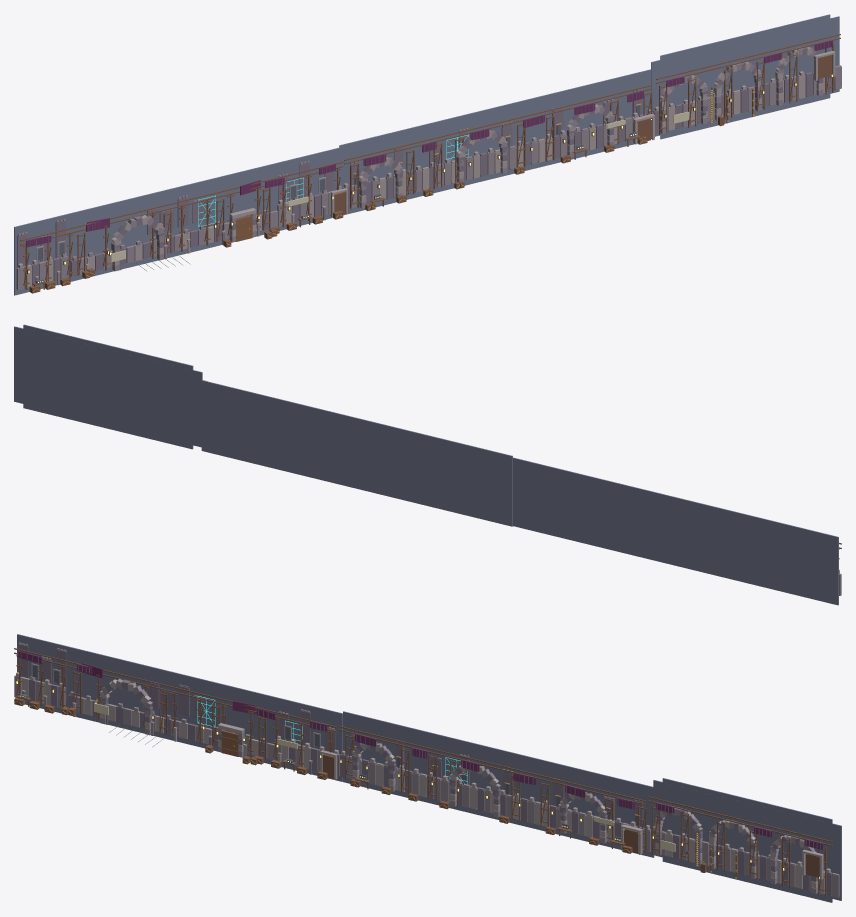
Rendered from Stage1_Backdrop.fbx.
The picture shows the model from 3 angles, top to bottom: view 1: azimuth 30°, elevation 25°; view 2: azimuth 150°, elevation 25°; view 3: azimuth 330°, elevation 25°; orthographic projection.
Parts seen in each view (by area): view 1: BG_GearRoomBackdrop, BG_StageBacking, BG_ExtraFlat_01, BG_ExtraFlat_02, BG_ExtraFlat_00, BG_StorageBackdrop, BG_EntryBackdrop, PROP_UpperStageBeam.001, PROP_OverheadBeam.001, PROP_UpperStageBeam; view 2: BG_GearRoomBackdrop, BG_StageBacking, BG_ExtraFlat_02, BG_ExtraFlat_01, BG_ExtraFlat_00, BG_StorageBackdrop, BG_EntryBackdrop; view 3: BG_GearRoomBackdrop, BG_StageBacking, BG_ExtraFlat_01, BG_ExtraFlat_02, BG_ExtraFlat_00, BG_StorageBackdrop, BG_EntryBackdrop, PROP_UpperStageBeam.001, PROP_OverheadBeam.001, PROP_UpperStageBeam.
Part boxes in pixels (x1,y1,x2,y2): BG_GearRoomBackdrop: (651, 14, 839, 139); BG_StageBacking: (61, 163, 277, 281); BG_ExtraFlat_01: (441, 96, 542, 191); BG_ExtraFlat_02: (542, 69, 650, 166); BG_ExtraFlat_00: (339, 120, 441, 215); BG_StorageBackdrop: (275, 147, 340, 230); BG_EntryBackdrop: (14, 214, 64, 295); PROP_UpperStageBeam.001: (344, 85, 652, 160); PROP_OverheadBeam.001: (20, 161, 343, 241); PROP_UpperStageBeam: (344, 88, 651, 164); BG_GearRoomBackdrop: (14, 324, 202, 449); BG_StageBacking: (574, 472, 790, 593); BG_ExtraFlat_02: (201, 380, 310, 477); BG_ExtraFlat_01: (310, 406, 411, 501); BG_ExtraFlat_00: (411, 431, 512, 526); BG_StorageBackdrop: (513, 457, 578, 540); BG_EntryBackdrop: (787, 524, 838, 605); BG_GearRoomBackdrop: (653, 778, 841, 902); BG_StageBacking: (64, 646, 281, 764); BG_ExtraFlat_01: (444, 736, 545, 831); BG_ExtraFlat_02: (545, 760, 654, 857); BG_ExtraFlat_00: (343, 711, 443, 805); BG_StorageBackdrop: (277, 698, 342, 781); BG_EntryBackdrop: (17, 634, 67, 713); PROP_UpperStageBeam.001: (338, 725, 645, 801); PROP_OverheadBeam.001: (14, 648, 336, 727); PROP_UpperStageBeam: (338, 729, 645, 805).
Bounding box in the file's own units: 11400 × 512 × 1100.
